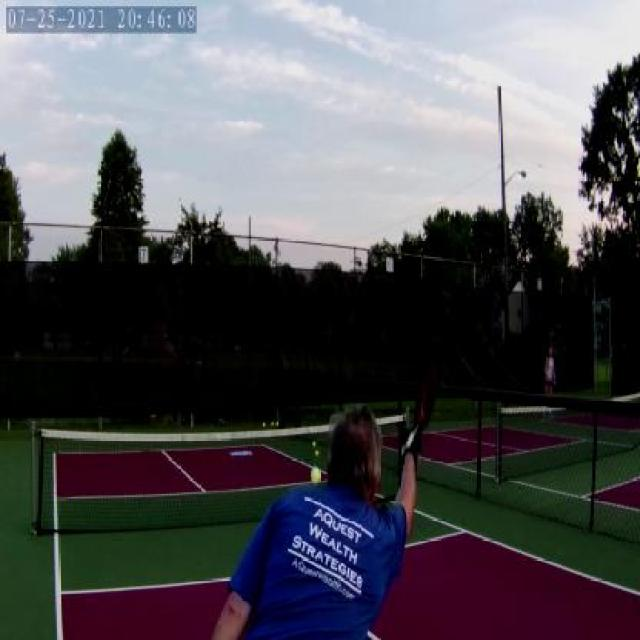ball: (308, 465, 324, 486)
